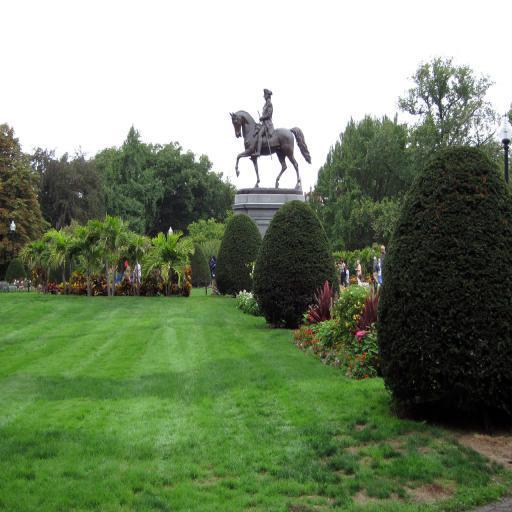horse: (227, 108, 315, 190)
